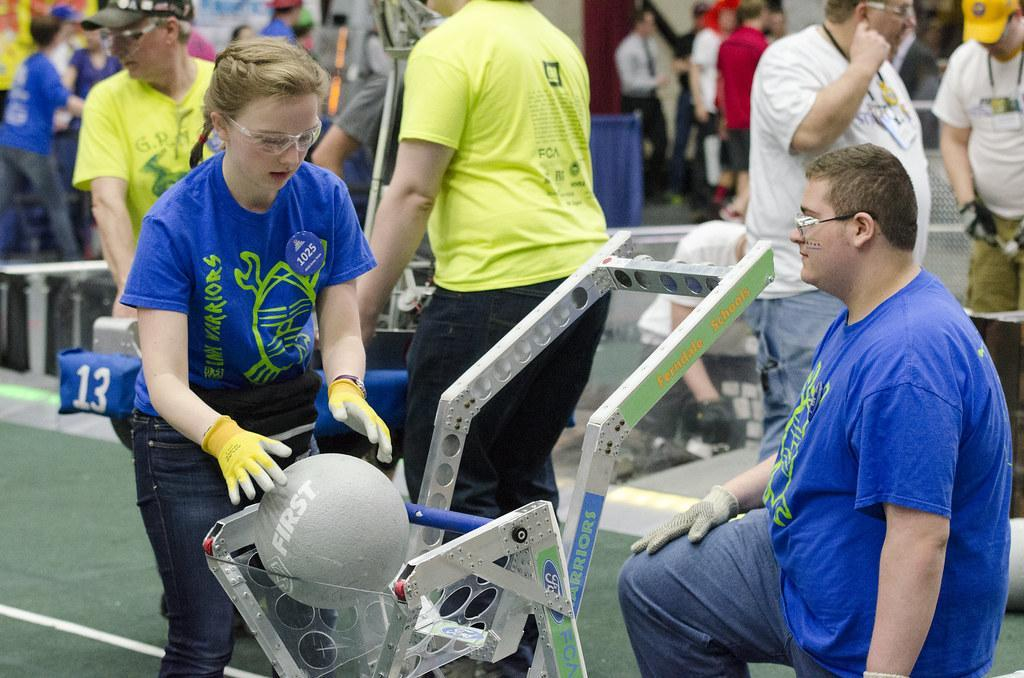robot: (200, 229, 787, 678)
